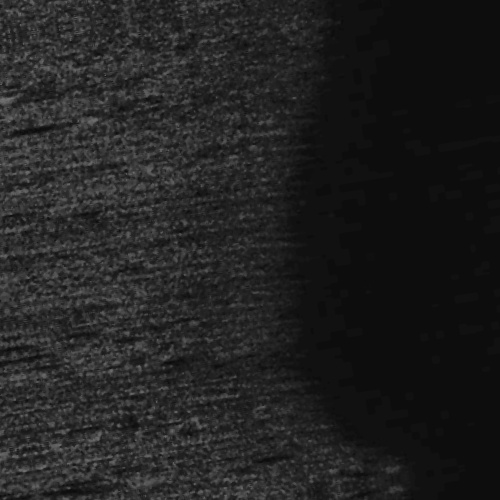object: (0, 54, 67, 63), (81, 89, 122, 96), (69, 455, 122, 460)
shadow: (15, 89, 101, 96), (0, 455, 95, 460), (0, 54, 30, 63)
